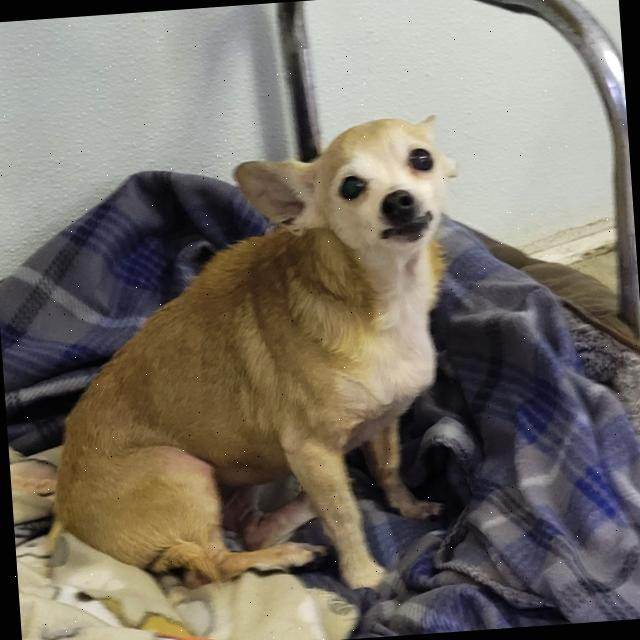chihuahua_dog: (226, 91, 497, 308)
